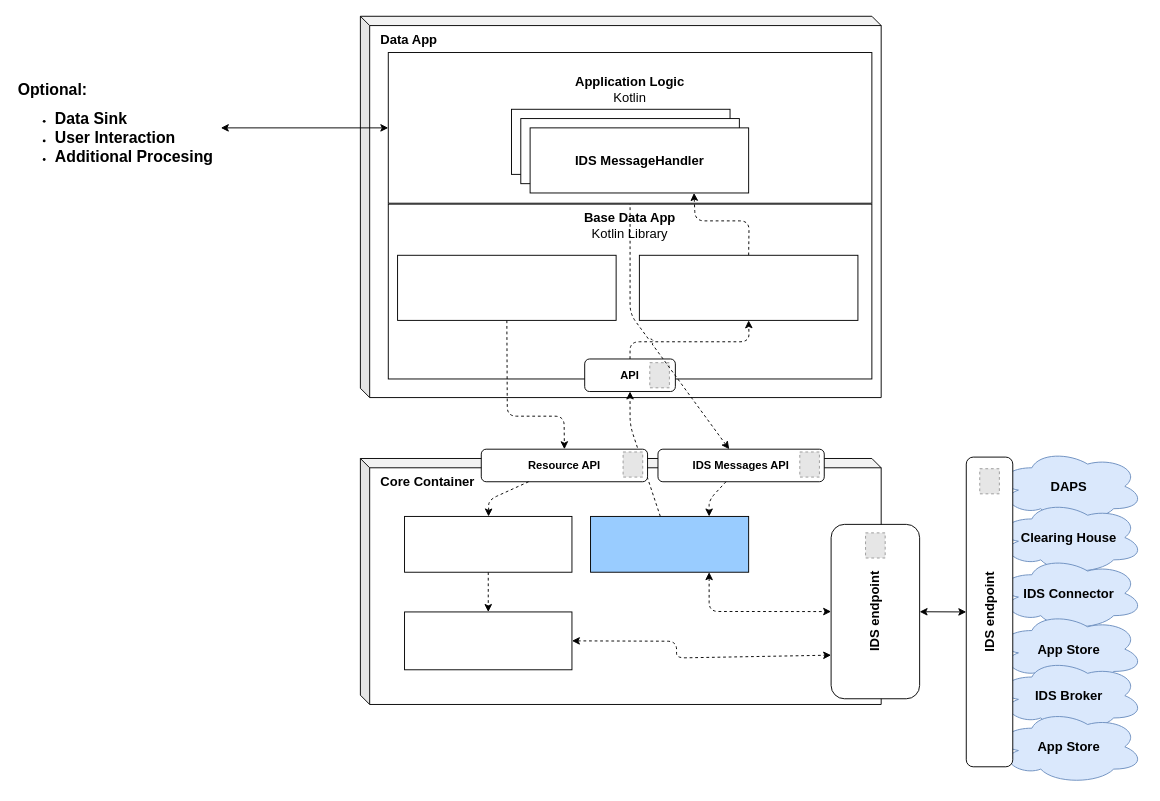
Image size: 1160x801. Some labels were removed from this diagram. Grey dashed boxes stand in for pictures. The centre of each missing label's shape, as x and y in pixels:
Apache Camel: (669,543)
IDS Message Dispatcher: (748,287)
ids-resource-manager: (488,543)
ids-selfdescription: (488,640)
Resource Publisher: (506,287)
